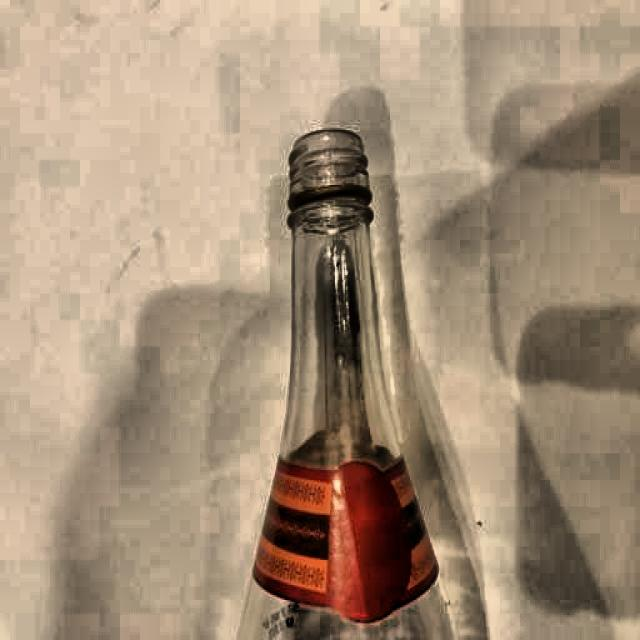glass: (238, 130, 454, 640)
